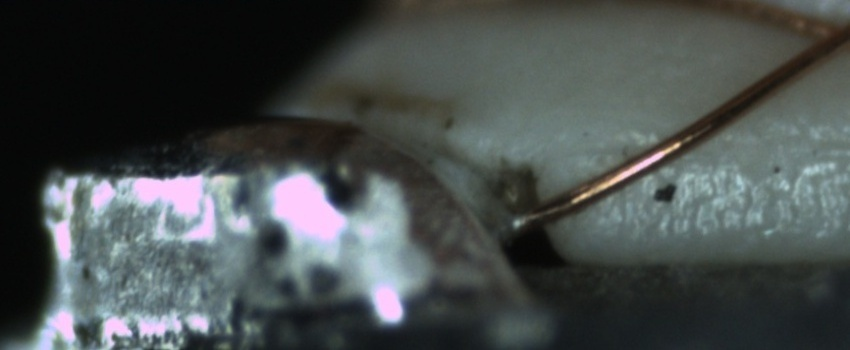CL: (782, 1, 847, 70)
DL: (610, 110, 850, 184)
